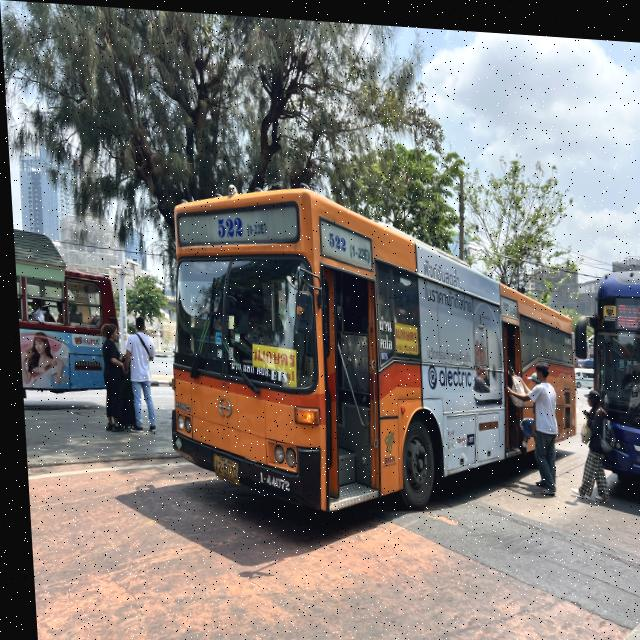BMTA-bus: (167, 185, 573, 512)
Bus Line Number: (212, 211, 269, 240)
Bus Side Number: (250, 464, 290, 493)
Destination Sign: (248, 338, 294, 387), (612, 288, 640, 322)
TSB-Bus: (586, 250, 640, 473)
